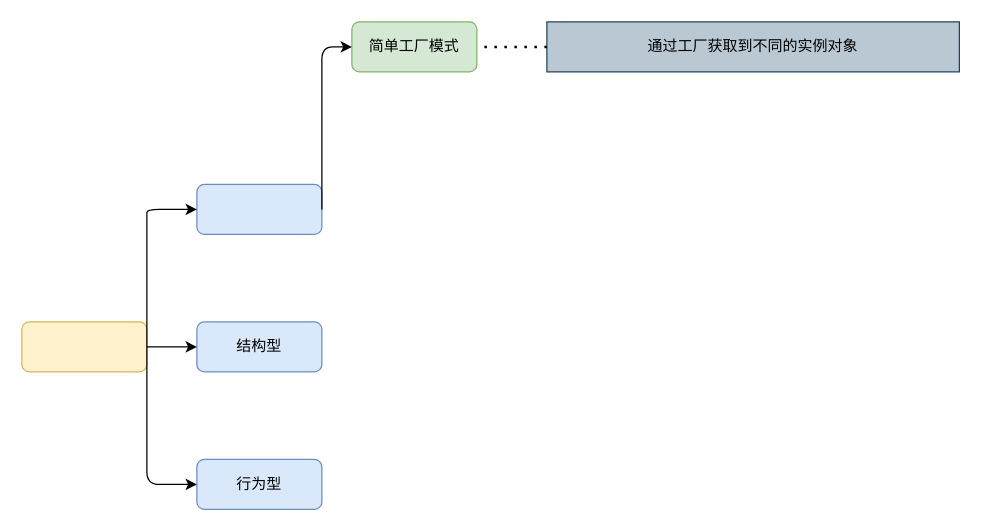
This 981x531 diagram has some shape labels left out. The centre of each missing label's shape, as x and y in pixels:
"创建型" goes at point (259, 208).
"设计模式" goes at point (84, 346).
